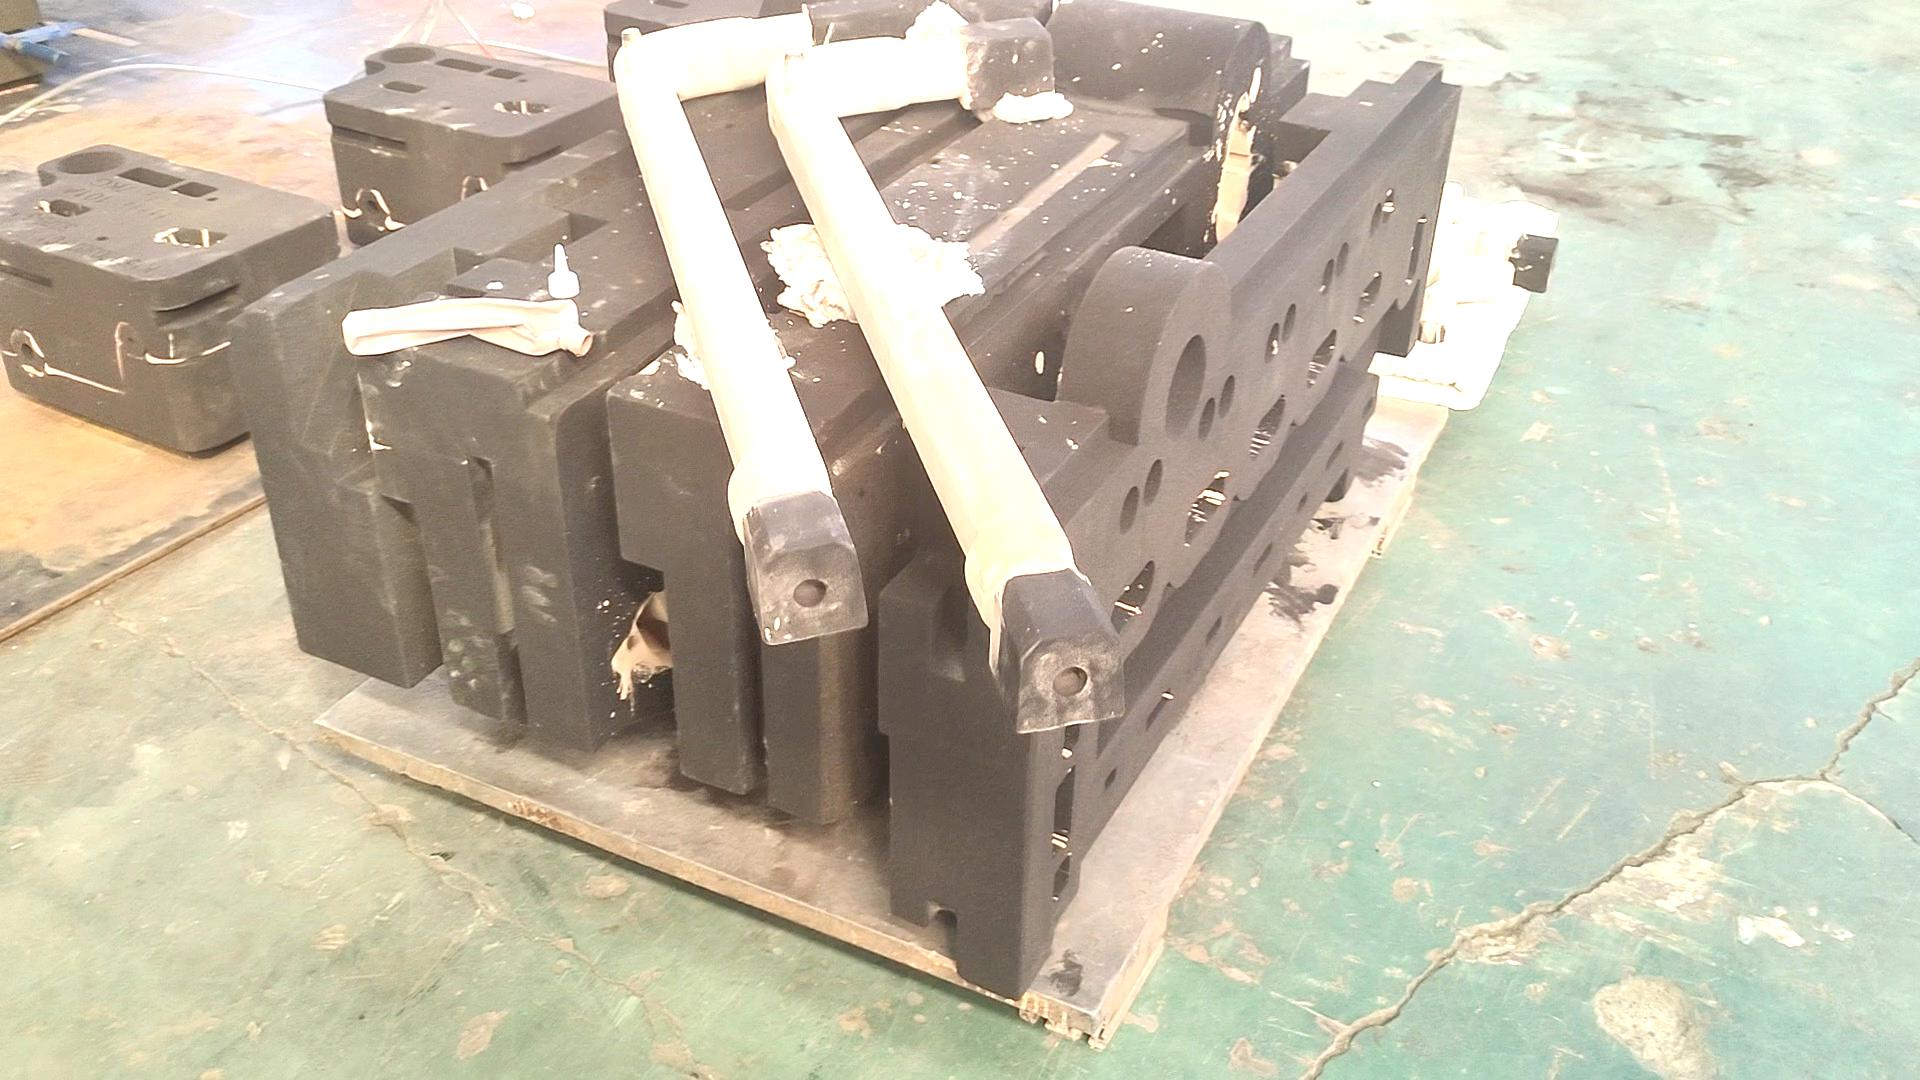pouring hole: (1164, 334, 1207, 440), (55, 150, 128, 173), (380, 46, 436, 63)
